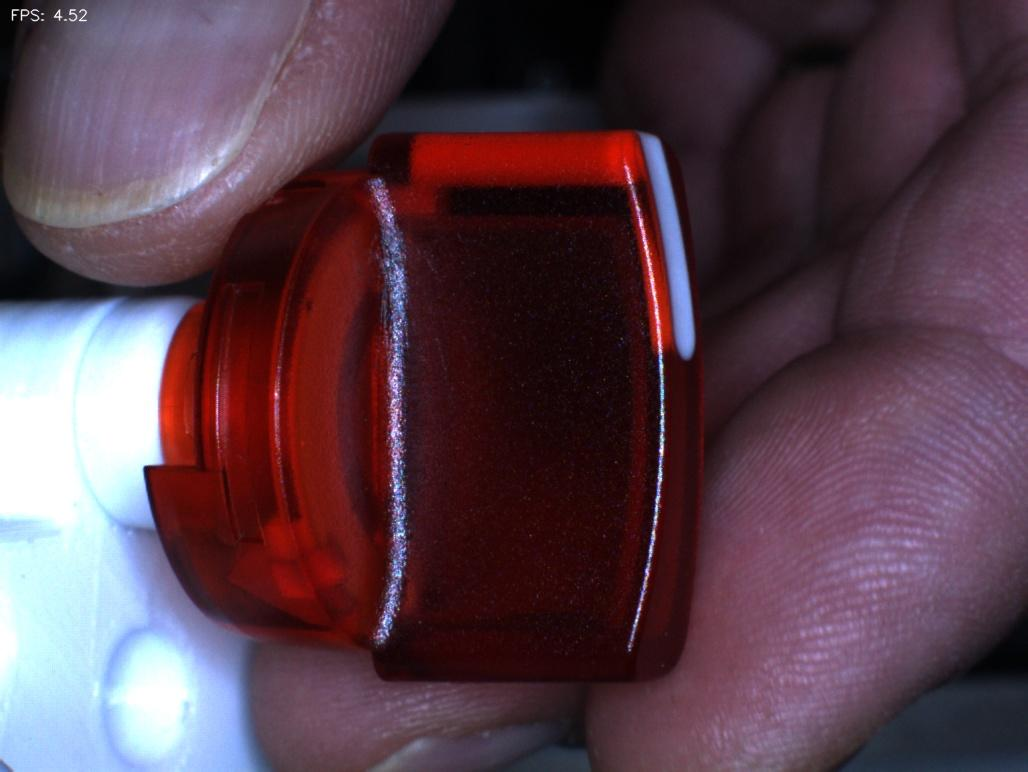Givrage: (353, 222, 454, 380)
